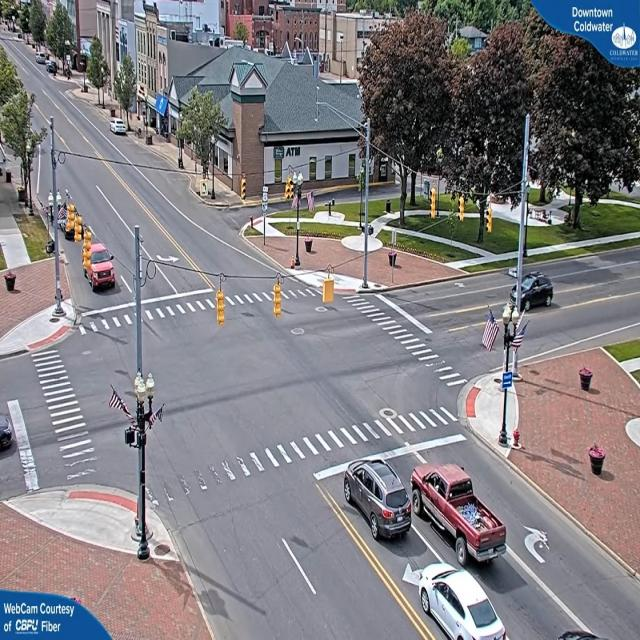car: (412, 462, 504, 553), (344, 457, 415, 541), (85, 245, 117, 292), (525, 272, 556, 312), (111, 120, 129, 136)
